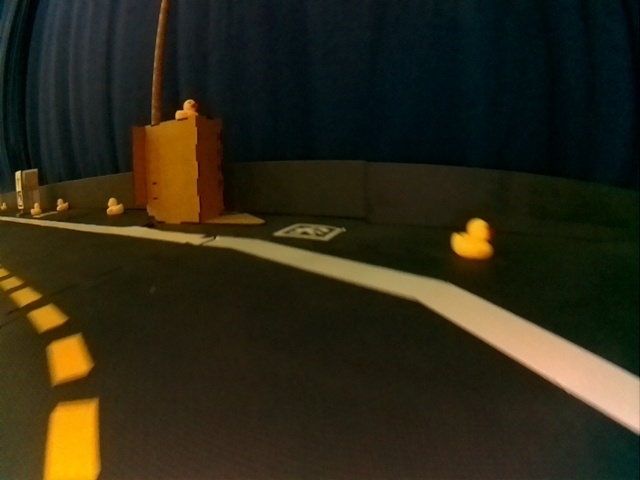Duckie: (452, 218, 491, 257), (174, 98, 198, 120), (106, 198, 123, 214), (56, 198, 66, 208), (0, 201, 10, 211), (29, 203, 38, 214)
QR code: (275, 222, 343, 242)
